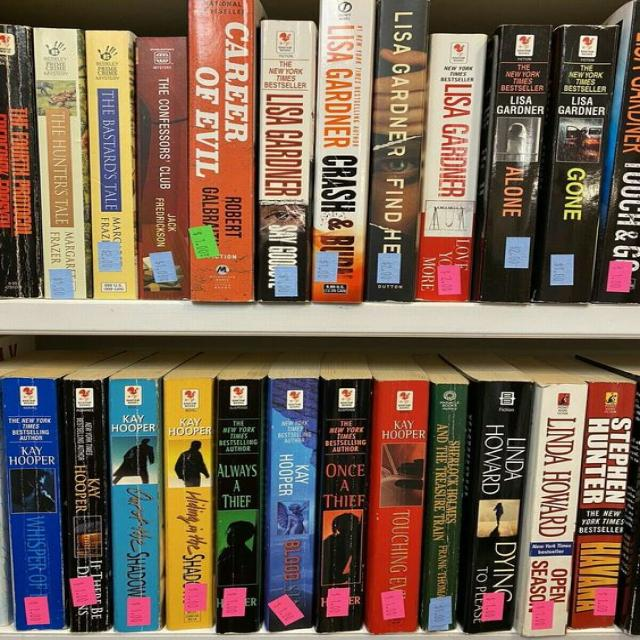book: (539, 26, 618, 303), (479, 26, 552, 302), (189, 0, 253, 302), (312, 1, 375, 302), (416, 33, 486, 301), (367, 0, 428, 302), (464, 381, 534, 634), (521, 384, 586, 638), (2, 378, 65, 631), (573, 382, 637, 629), (257, 20, 312, 301), (368, 380, 429, 633), (136, 36, 190, 300), (33, 27, 85, 300), (86, 31, 138, 299), (318, 378, 371, 633), (269, 378, 318, 631), (110, 378, 158, 631), (165, 378, 213, 629), (217, 378, 262, 633), (0, 26, 42, 298), (65, 378, 109, 631), (427, 385, 469, 630)
